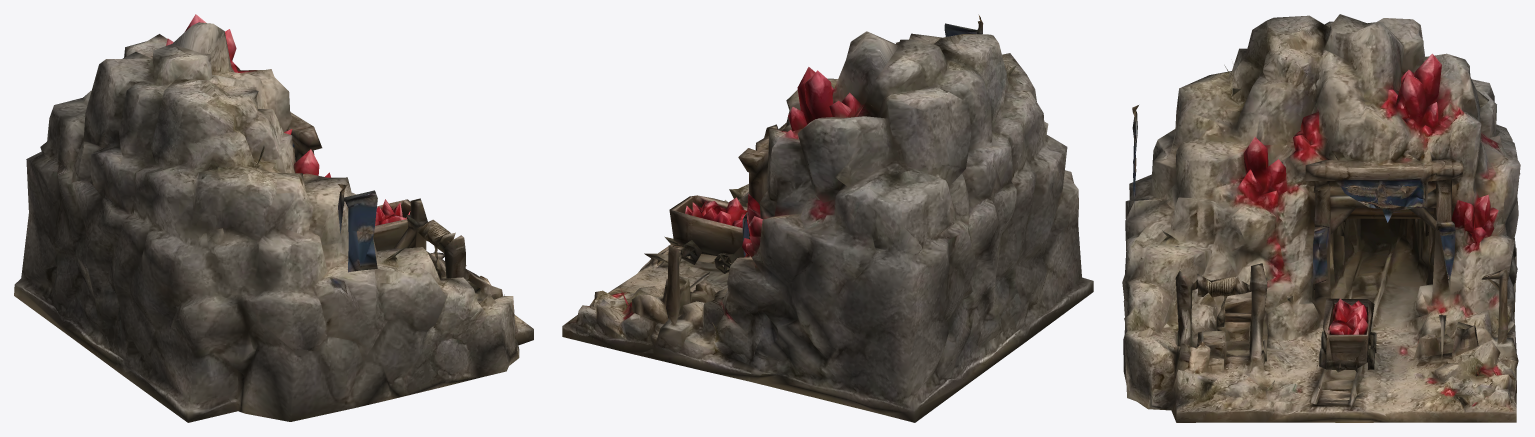
The model's file is dia_mine_red.glb.
The picture shows the model from 3 angles, left to right: view 1: azimuth 30°, elevation 25°; view 2: azimuth 150°, elevation 25°; view 3: azimuth 270°, elevation 25°; orthographic projection. The views are drawn at different scales.
Parts seen in each view (by area): view 1: tripo_node_bd316892-d0d8-4b2d-a03c-b57bfb2ae486; view 2: tripo_node_bd316892-d0d8-4b2d-a03c-b57bfb2ae486; view 3: tripo_node_bd316892-d0d8-4b2d-a03c-b57bfb2ae486.
Boxes of the visible parts, x1,y1,x2,y2 form: tripo_node_bd316892-d0d8-4b2d-a03c-b57bfb2ae486: (14,14,533,422); tripo_node_bd316892-d0d8-4b2d-a03c-b57bfb2ae486: (562,14,1093,422); tripo_node_bd316892-d0d8-4b2d-a03c-b57bfb2ae486: (1122,14,1520,422).
Size of the model in its own units: 0.9693 by 0.781 by 0.9746.
1 material, 1 textured.
